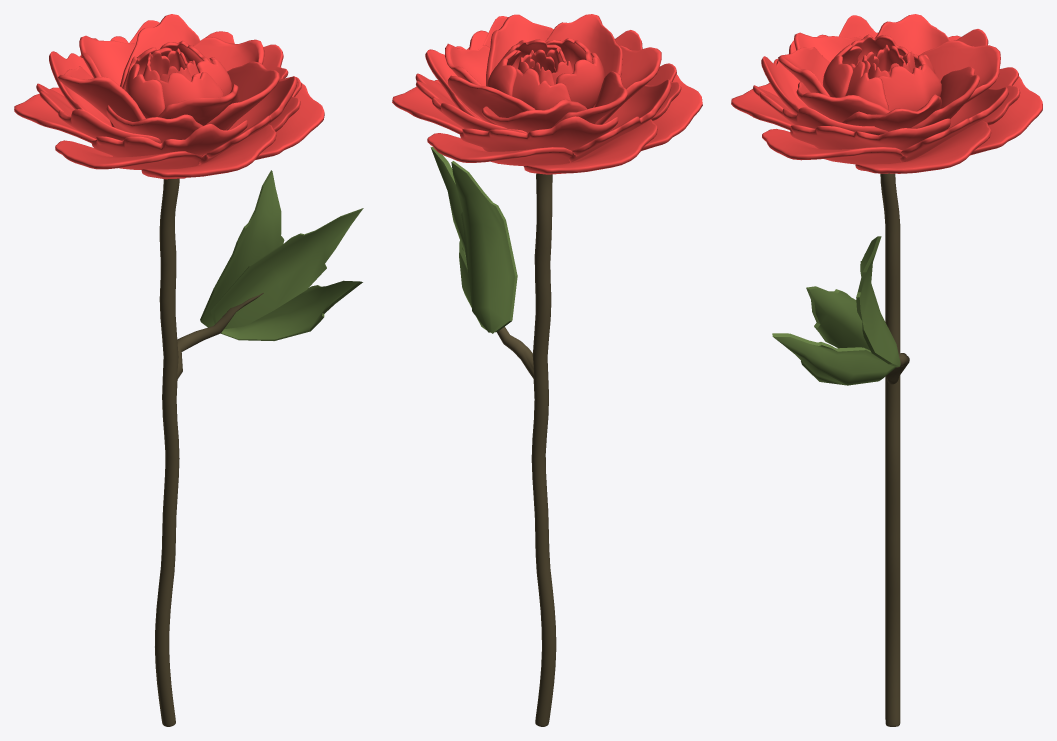
The model's file is Red_Peony_Model.fbx.
3 views of the same model, side by side, from view 1: azimuth 30°, elevation 25°; view 2: azimuth 150°, elevation 25°; view 3: azimuth 270°, elevation 25° (orthographic).
Parts seen in each view (by area): view 1: Stem1, pCube33, pCube34, pCube3, pCube13, pCube12, pCube1, pCube22, pCube18, pCube7, pCube8, pCube21 (+12 smaller); view 2: Stem1, pCube34, pCube15, pCube10, pCube11, pCube14, pCube4, pCube20, pCube12, pCube18, pCube23, pCube21 (+13 smaller); view 3: Stem1, pCube3, pCube17, pCube33, pCube9, pCube34, pCube21, pCube8, pCube25, pCube16, pCube10, pCube22 (+13 smaller).
Boxes of the visible parts, x1,y1,x2,y2 form: Stem1: [155, 178, 179, 726]; pCube33: [210, 208, 363, 329]; pCube34: [200, 170, 284, 327]; pCube3: [221, 280, 362, 340]; pCube13: [91, 120, 247, 157]; pCube12: [55, 140, 201, 169]; pCube1: [141, 124, 276, 179]; pCube22: [58, 66, 145, 121]; pCube18: [206, 61, 279, 130]; pCube7: [198, 76, 297, 164]; pCube8: [255, 83, 324, 159]; pCube21: [79, 35, 135, 127]; Stem1: [531, 173, 556, 726]; pCube34: [451, 161, 517, 332]; pCube15: [460, 116, 618, 151]; pCube10: [427, 133, 572, 166]; pCube11: [524, 119, 657, 174]; pCube14: [569, 79, 671, 162]; pCube4: [545, 14, 622, 107]; pCube20: [448, 75, 534, 124]; pCube12: [641, 74, 702, 150]; pCube18: [486, 14, 553, 86]; pCube23: [594, 45, 661, 124]; pCube21: [482, 99, 586, 152]; Stem1: [880, 173, 900, 726]; pCube3: [772, 333, 896, 385]; pCube17: [790, 118, 950, 150]; pCube33: [806, 286, 870, 350]; pCube9: [855, 121, 991, 173]; pCube34: [856, 236, 900, 367]; pCube21: [919, 40, 1000, 104]; pCube8: [762, 129, 903, 164]; pCube25: [878, 64, 941, 111]; pCube16: [899, 87, 1008, 162]; pCube10: [970, 76, 1042, 155]; pCube22: [875, 14, 949, 55].
Size of the model in its own units: 1.55 by 3.6 by 1.51.
